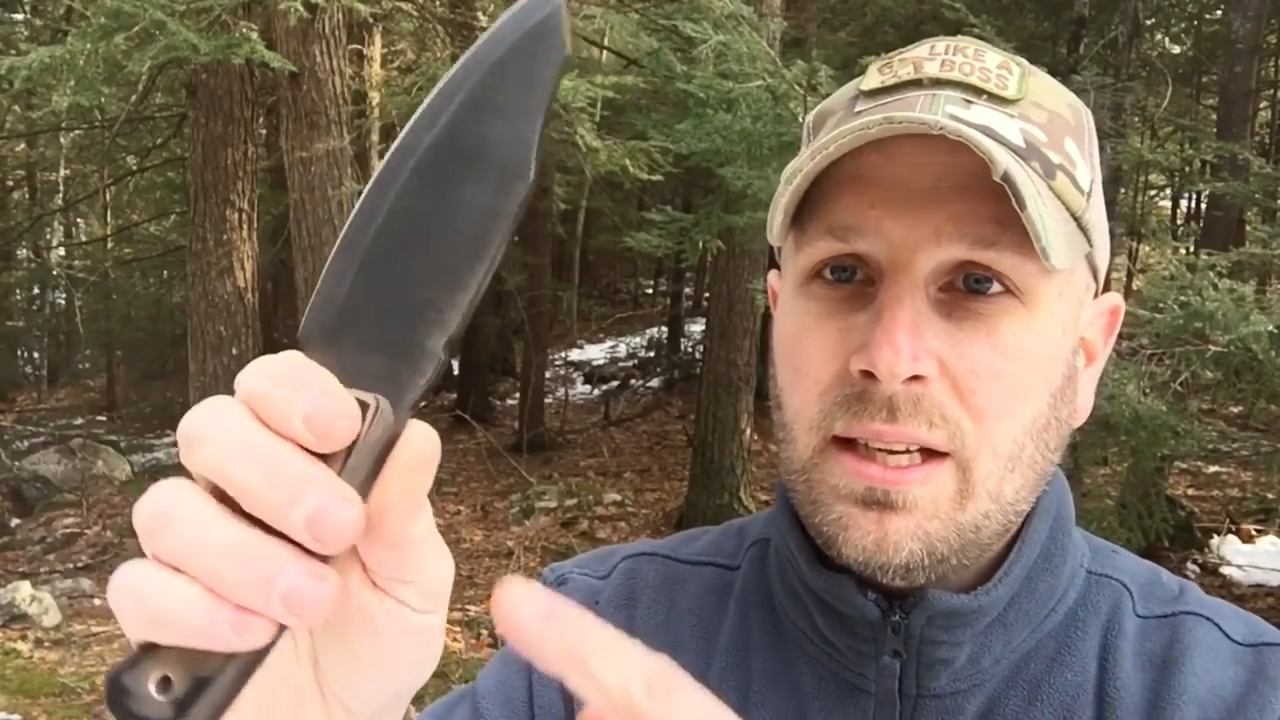knife: (169, 1, 585, 530)
